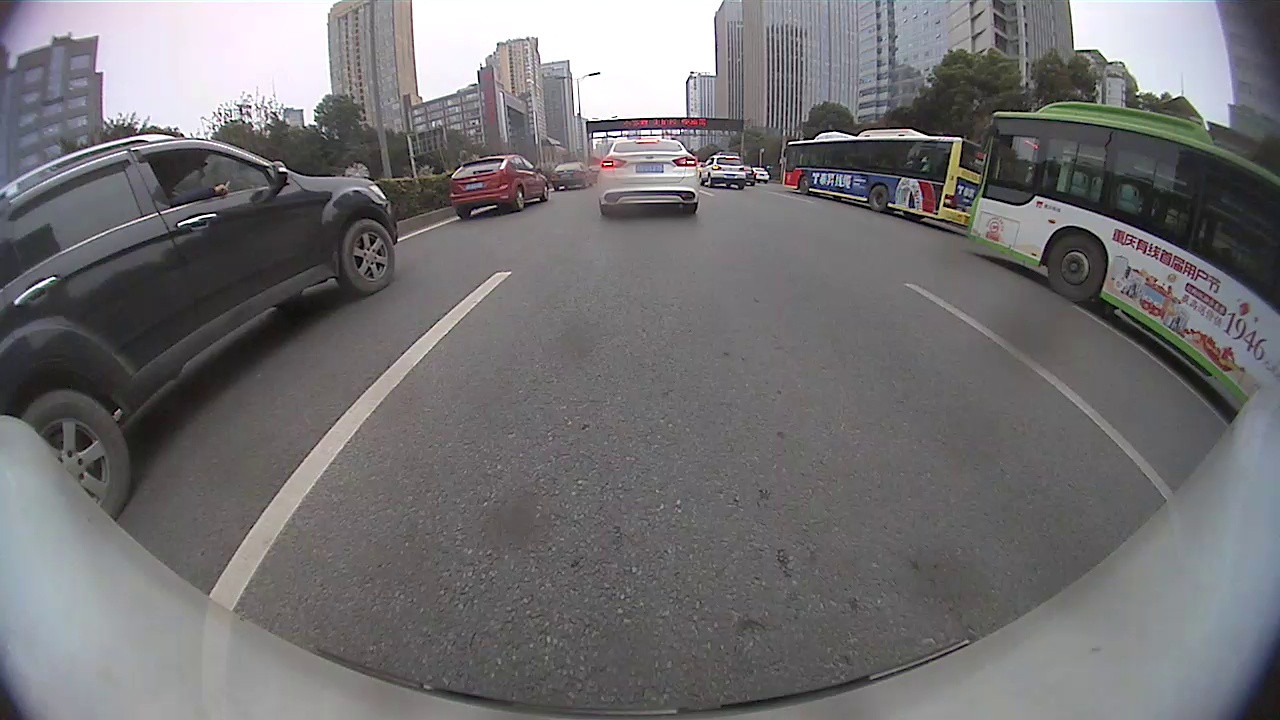bus: (963, 99, 1278, 413), (779, 126, 989, 230)
car: (1, 131, 402, 522), (594, 136, 701, 219), (446, 152, 552, 221), (701, 149, 749, 189), (552, 160, 595, 193)
front: (1040, 230, 1110, 304), (340, 219, 401, 292), (797, 175, 813, 196)
rear: (17, 388, 137, 519), (871, 184, 889, 213), (514, 187, 527, 213)
